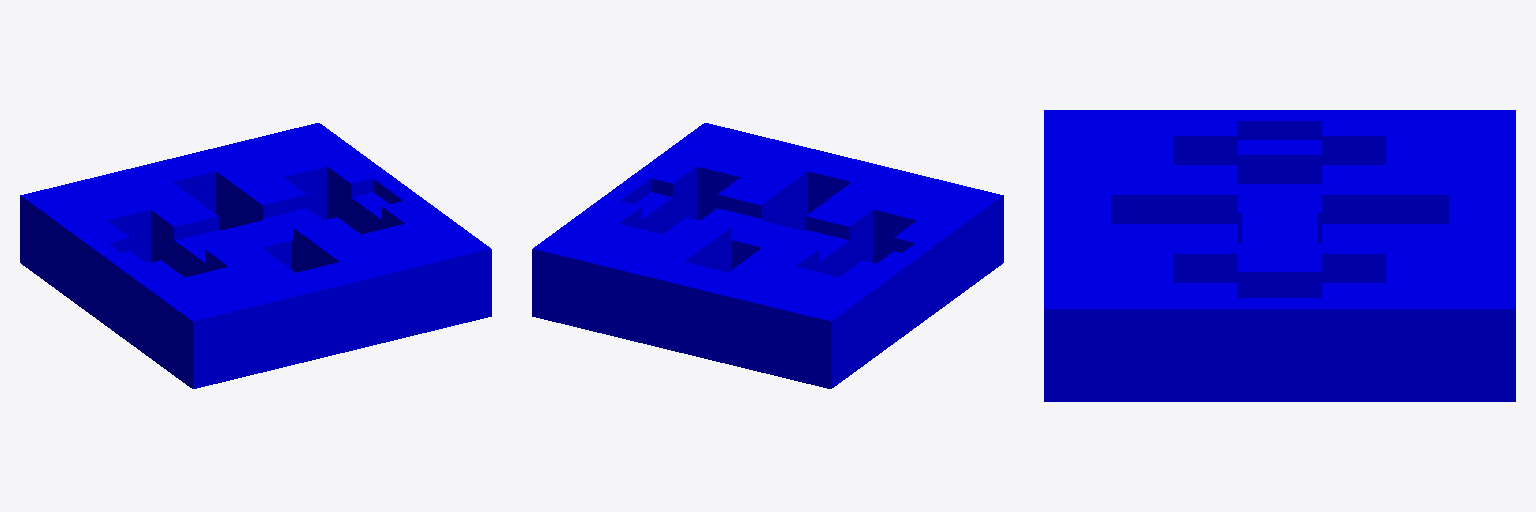
URDF robot description (base):
<?xml version="1.0"?>
<robot name="base">
    <link name="base">
        <visual>
            <origin xyz="0 0 0" rpy="0 0 0"/>
            <geometry>
                <mesh filename="./meshes/base.stl" scale="0.001 0.001 0.001"/>
            </geometry>
            <material name="red">
                <color rgba="0.0 0.0 1.0 1.0"/>
            </material>
        </visual>
        <collision>
            <origin xyz="0 0 0" rpy="0 0 0"/>
            <geometry>
                <mesh filename="./meshes/base.stl" scale="0.001 0.001 0.001"/>
            </geometry>
        </collision>
    </link>
</robot>

--- Render facts (derived) ---
3 views of the same robot in one strip: view 1: azimuth 30°, elevation 25°; view 2: azimuth 150°, elevation 25°; view 3: azimuth 270°, elevation 25° (orthographic).
Model base with 1 links and 0 joints (none), rooted at base, posed every joint at zero.
Links seen in each view (by area): view 1: base; view 2: base; view 3: base.
Link boxes in pixels (<box>): base: <box>20,123,491,388</box>; base: <box>532,123,1003,388</box>; base: <box>1044,110,1515,401</box>.
Bounding box of the posed robot: 0.0002 × 0.0002 × 0.0001 m (x, y, z).
1 mesh visuals loaded from 1 distinct referenced files (1 binary STL).